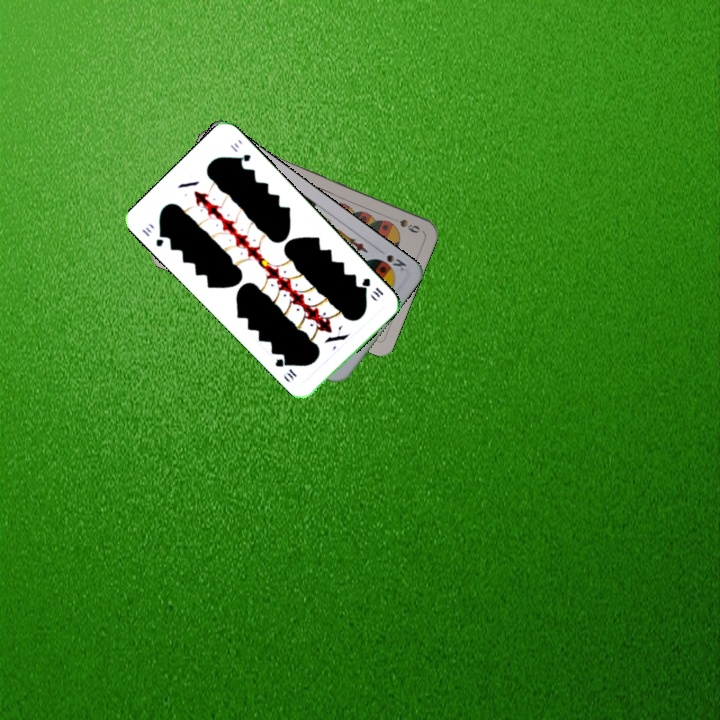G10: (137, 222, 168, 249), (357, 274, 386, 300)
S9: (385, 212, 423, 236)
SK: (382, 250, 409, 274)
